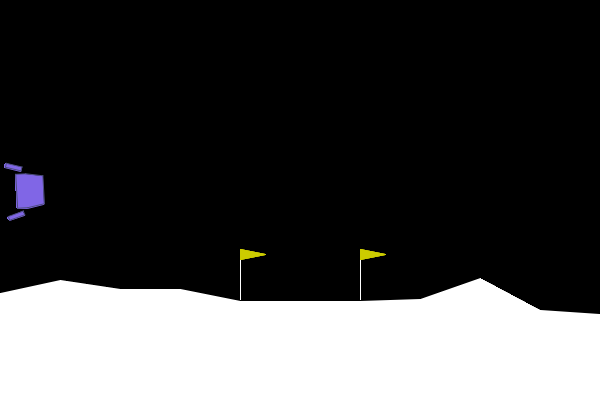lander: (4, 160, 47, 222)
